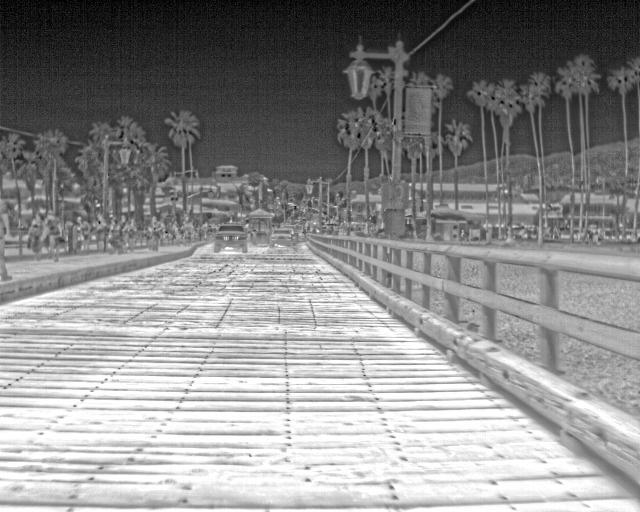bicycle: (212, 222, 248, 253), (268, 225, 298, 246)
empty: (0, 194, 16, 281), (42, 210, 61, 261), (25, 211, 43, 262), (144, 213, 162, 250), (123, 216, 138, 251), (73, 214, 86, 253)
